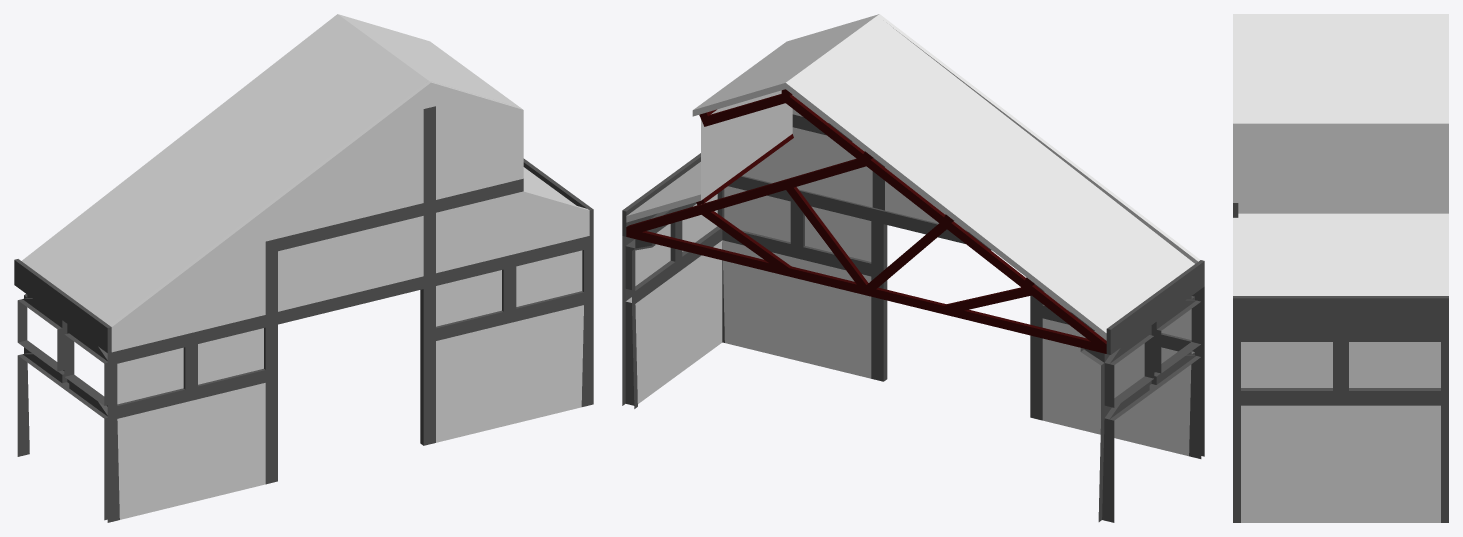
File: SM_Factory_G.fbx
The picture shows the model from 3 angles, left to right: view 1: azimuth 30°, elevation 25°; view 2: azimuth 150°, elevation 25°; view 3: azimuth 270°, elevation 25°; orthographic projection. The views are drawn at different scales.
Visible parts, largest first — view 1: Factory_Frame_G, Factory_PillarsAndBeams_G; view 2: Factory_Frame_G, Factory_PillarsAndBeams_G; view 3: Factory_Frame_G, Factory_PillarsAndBeams_G.
Part boxes in pixels (left/top/right/bottom): Factory_Frame_G: left=14, top=14, right=593, bottom=353; Factory_PillarsAndBeams_G: left=17, top=235, right=593, bottom=522; Factory_Frame_G: left=622, top=14, right=1204, bottom=354; Factory_PillarsAndBeams_G: left=622, top=175, right=1204, bottom=522; Factory_Frame_G: left=1233, top=14, right=1448, bottom=327; Factory_PillarsAndBeams_G: left=1233, top=327, right=1448, bottom=522.
Bounding box in the file's own units: 12 × 4 × 8.53.
